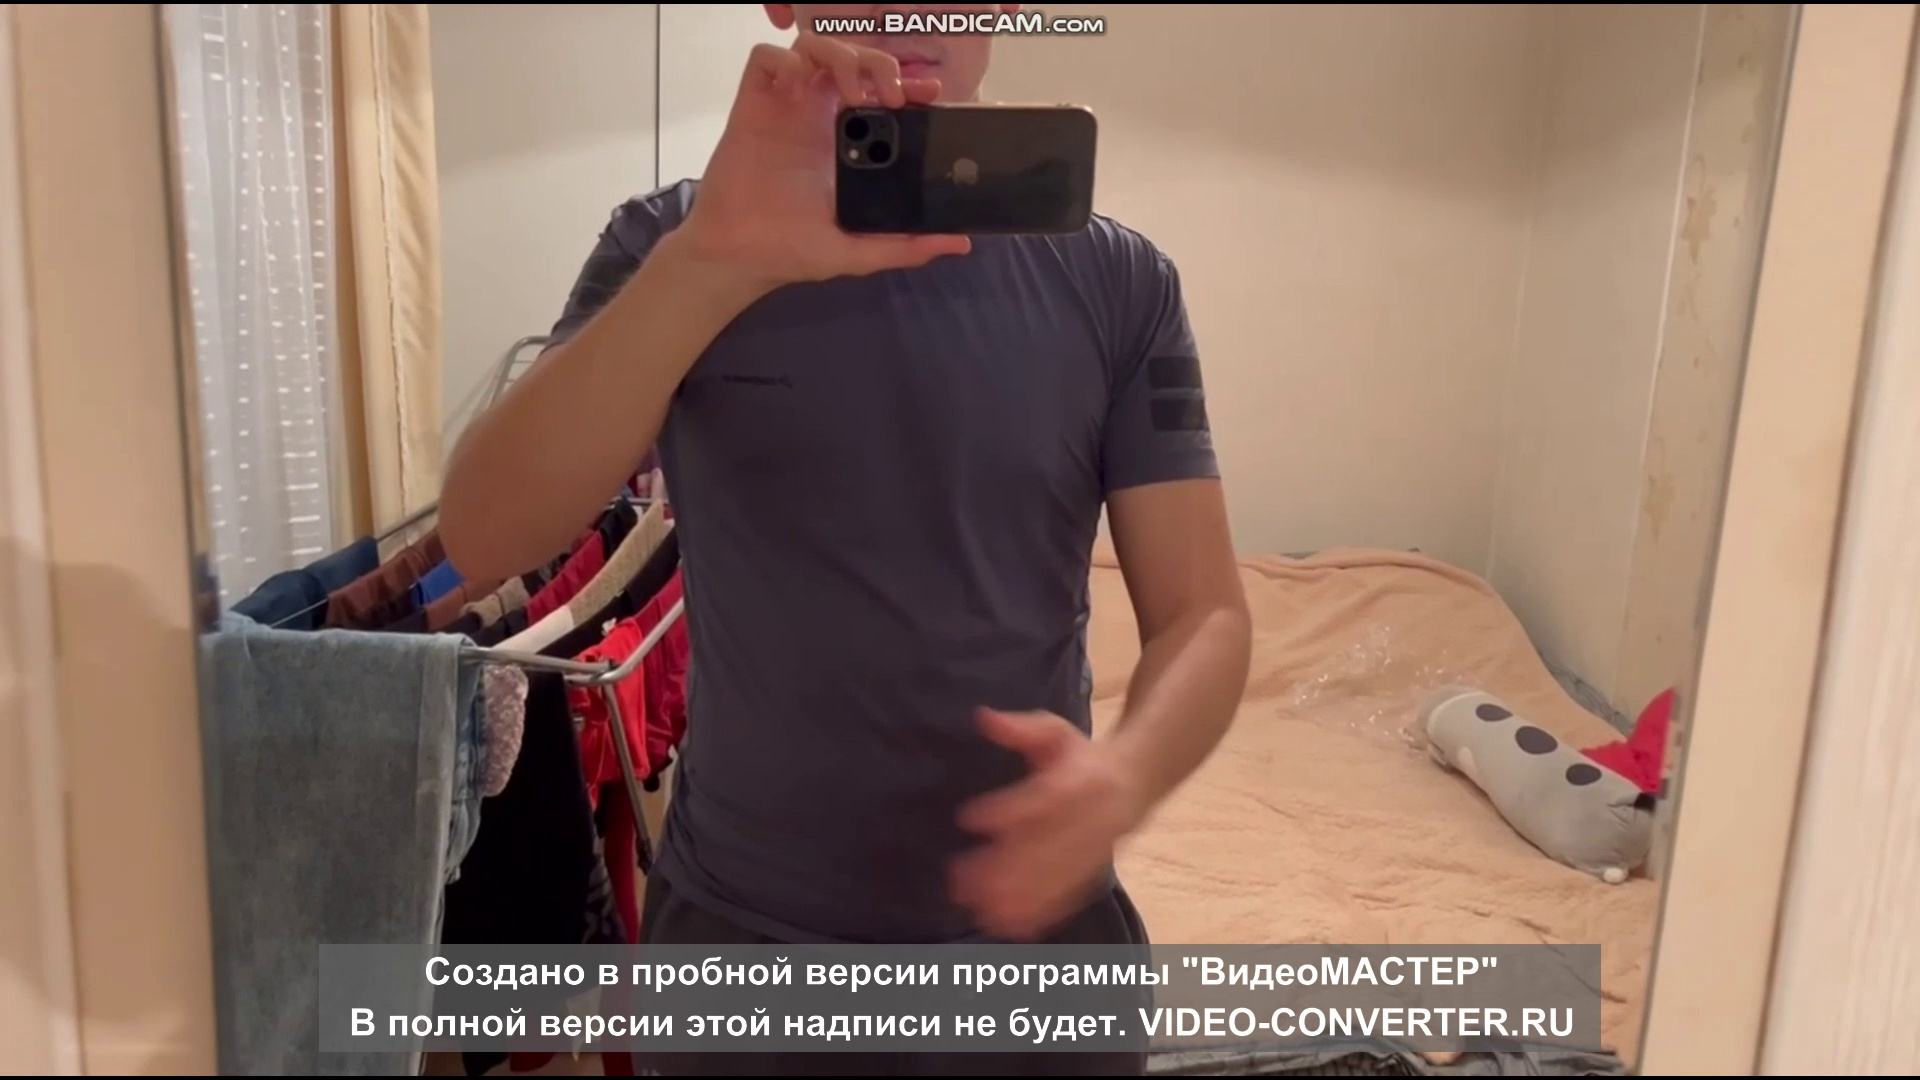Кисть: (942, 702, 1134, 936)
